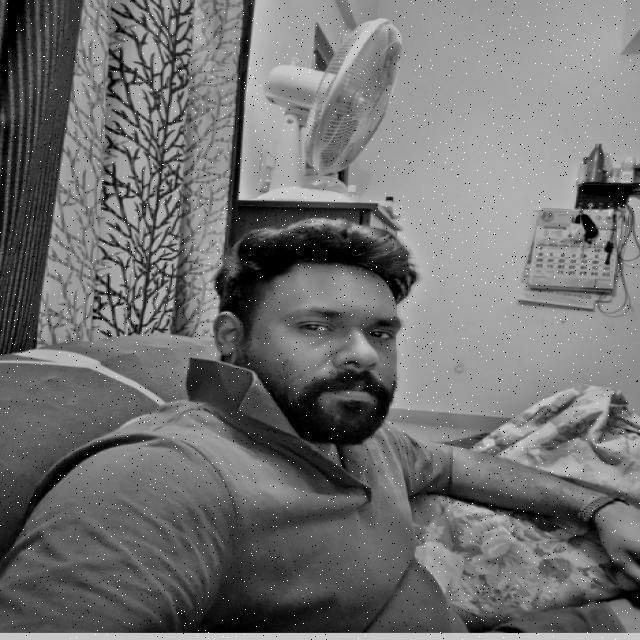face_no_mask: (217, 260, 402, 425)
